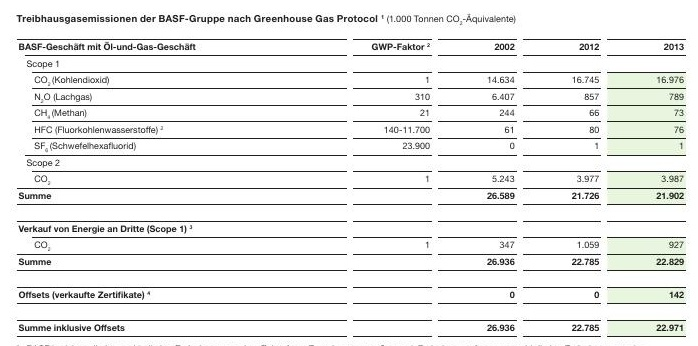table: (0, 0, 698, 346)
